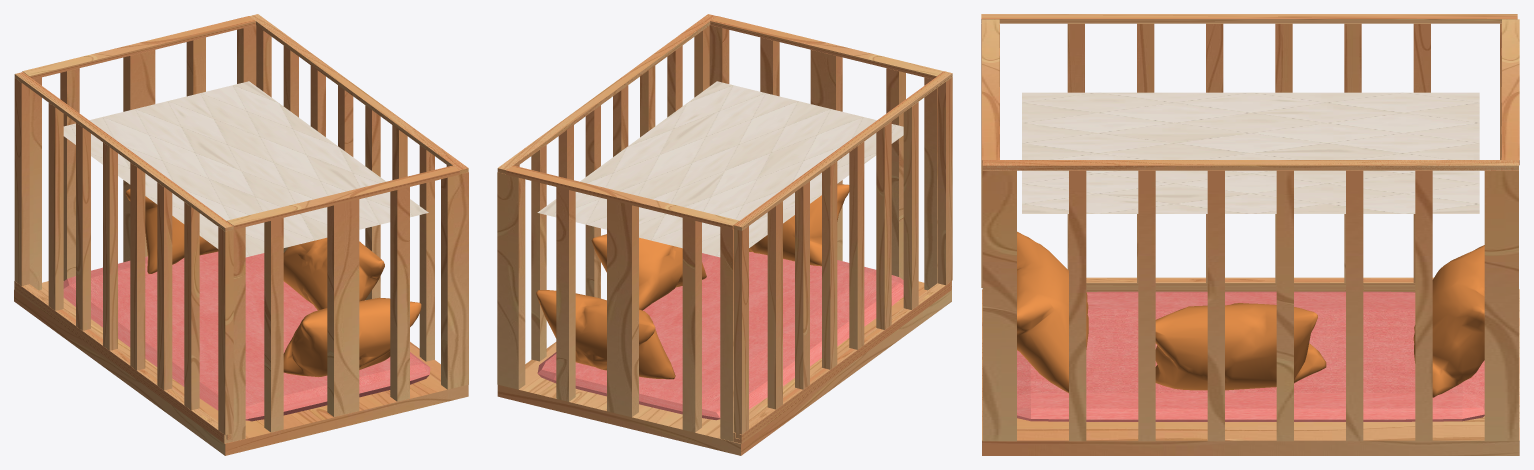
The model's file is babypark.fbx.
3 renders of one model, left to right at view 1: azimuth 30°, elevation 25°; view 2: azimuth 150°, elevation 25°; view 3: azimuth 270°, elevation 25°, orthographic. The views are drawn at different scales.
Visible parts, largest first — view 1: Barreaux, Porte, couverture, matelas, Sol, coussin_droit, coussin_central, Rail, coussin_gauche; view 2: Barreaux, Porte, couverture, matelas, Sol, coussin_gauche, coussin_central, Rail, coussin_droit; view 3: Barreaux, couverture, matelas, Sol, Porte, coussin_central, coussin_gauche, coussin_droit, Rail.
Boxes of the visible parts, x1,y1,x2,y2 form: Barreaux: [22, 14, 468, 441]; Porte: [14, 72, 233, 439]; couverture: [63, 81, 428, 257]; matelas: [63, 251, 430, 421]; Sol: [14, 281, 468, 455]; coussin_droit: [283, 297, 421, 377]; coussin_central: [283, 237, 384, 310]; Rail: [14, 281, 232, 443]; coussin_gauche: [125, 189, 218, 273]; Barreaux: [497, 14, 943, 441]; Porte: [733, 71, 952, 438]; couverture: [537, 81, 903, 257]; matelas: [537, 252, 903, 420]; Sol: [497, 281, 951, 455]; coussin_gauche: [536, 290, 675, 379]; coussin_central: [591, 234, 706, 310]; Rail: [733, 281, 951, 443]; coussin_droit: [749, 184, 849, 266]; Barreaux: [982, 19, 1519, 441]; couverture: [1022, 92, 1479, 213]; matelas: [1017, 291, 1484, 421]; Sol: [982, 289, 1519, 455]; Porte: [981, 14, 1517, 287]; coussin_central: [1155, 303, 1326, 390]; coussin_gauche: [1413, 245, 1484, 397]; coussin_droit: [1017, 231, 1088, 393]; Rail: [1086, 277, 1433, 292].
Size of the model in its own units: 407 by 610 by 363.
Materials: 8 (7 with a texture image).
